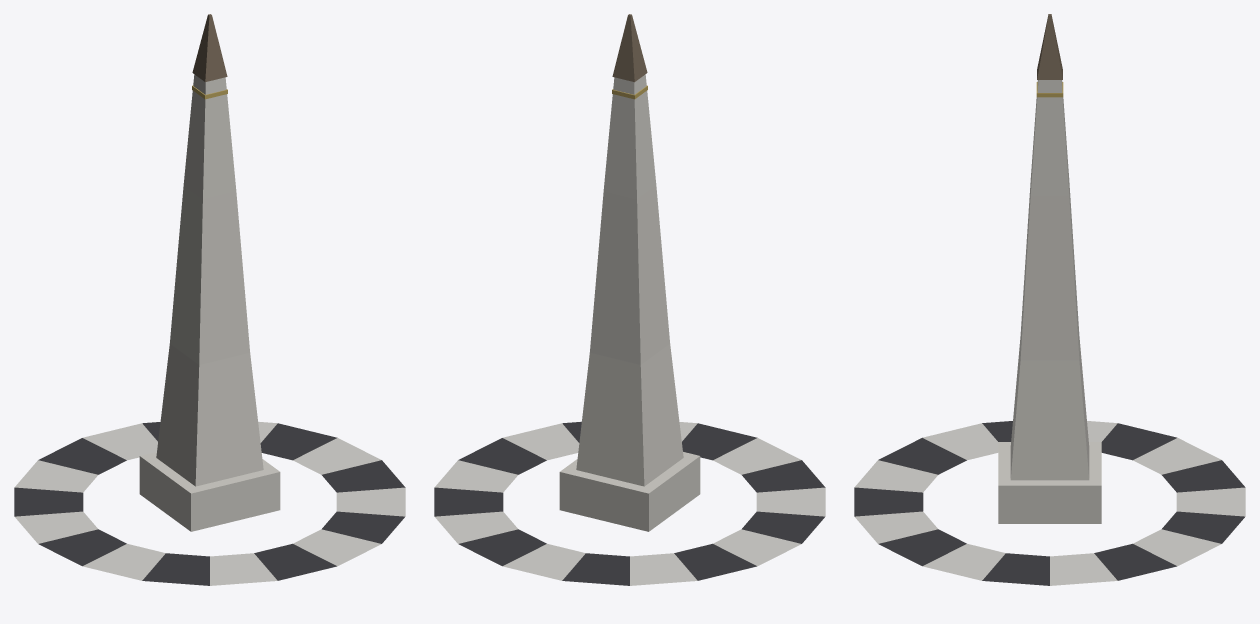
The model's file is rb_obelisk.glb.
The picture shows the model from 3 angles, left to right: view 1: azimuth 30°, elevation 25°; view 2: azimuth 150°, elevation 25°; view 3: azimuth 270°, elevation 25°; orthographic projection.
Parts seen in each view (by area): view 1: rb_obelisk_lod0; view 2: rb_obelisk_lod0; view 3: rb_obelisk_lod0.
Boxes of the visible parts, box(x1,y1,x2,y2) form: rb_obelisk_lod0: box(14, 14, 405, 585); rb_obelisk_lod0: box(434, 14, 825, 585); rb_obelisk_lod0: box(854, 14, 1245, 585).
Size of what is drawn, in the model's own units: 10.8 by 15.34 by 10.64.
